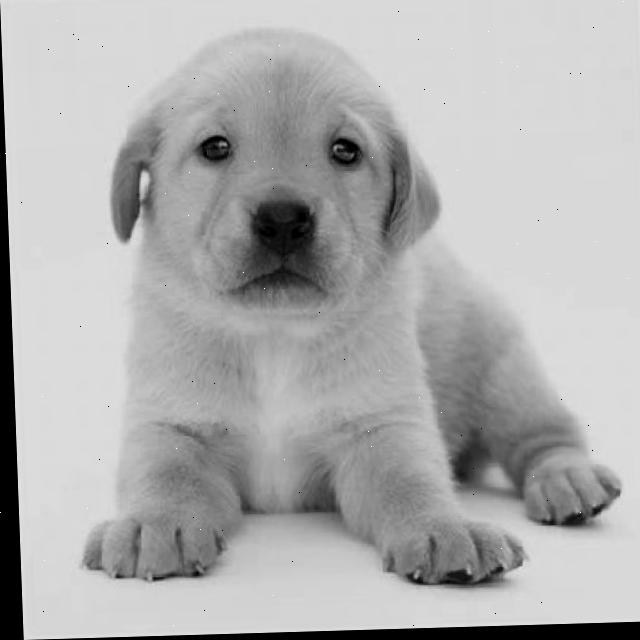Dog: (56, 12, 640, 606)
